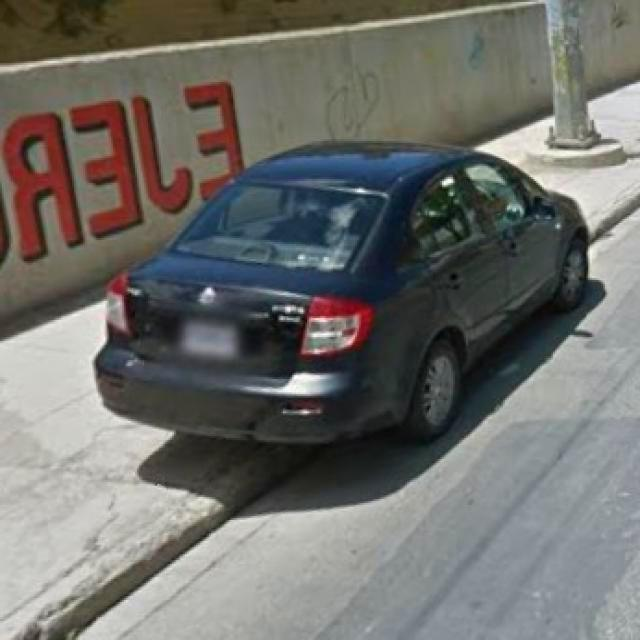Car: (88, 102, 594, 475)
